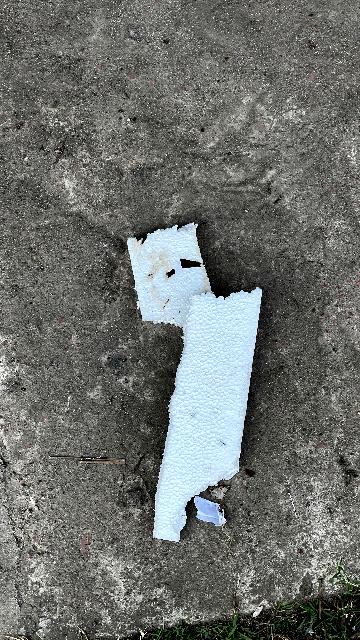cocksheet: (115, 198, 275, 557)
